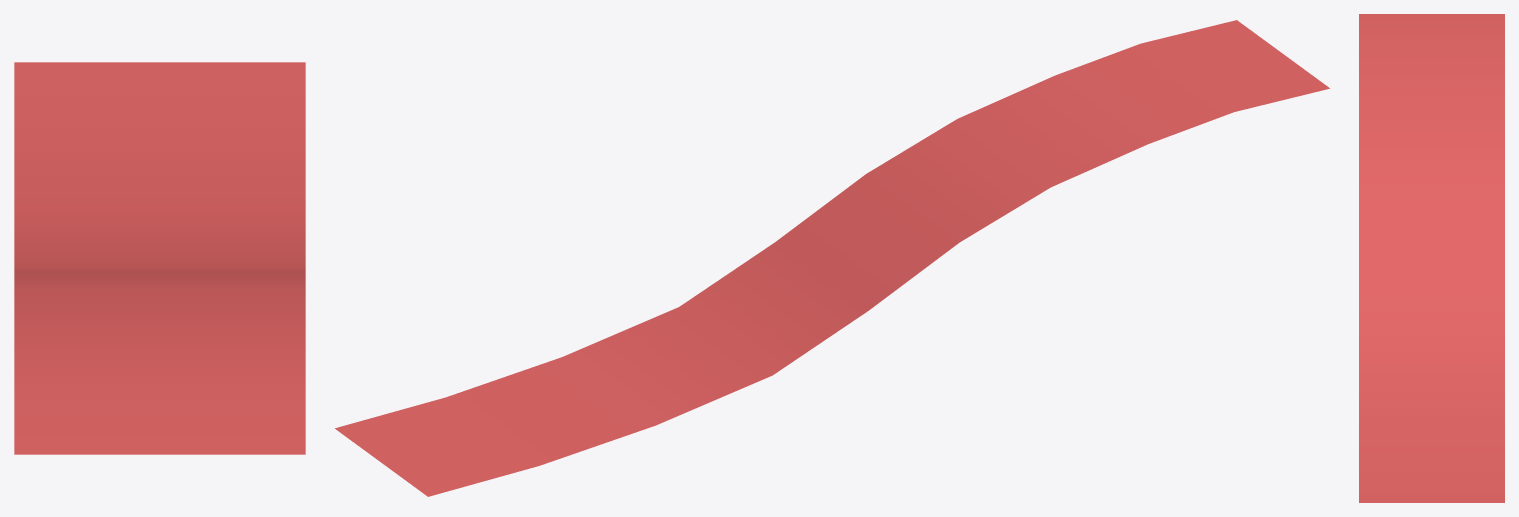
Rendered from Ramp1Color_New.fbx.
3 views of the same model, side by side, from view 1: azimuth 90°, elevation 25°; view 2: azimuth 210°, elevation 25°; view 3: azimuth 270°, elevation 25° (orthographic). The views are drawn at different scales.
Parts seen in each view (by area): view 1: pCube636; view 2: pCube636; view 3: pCube636.
Boxes of the visible parts, x1,y1,x2,y2 form: pCube636: [14, 62, 305, 454]; pCube636: [335, 20, 1329, 496]; pCube636: [1359, 14, 1504, 502].
Bounding box in the file's own units: 4.96 × 0.9879 × 0.8908.
